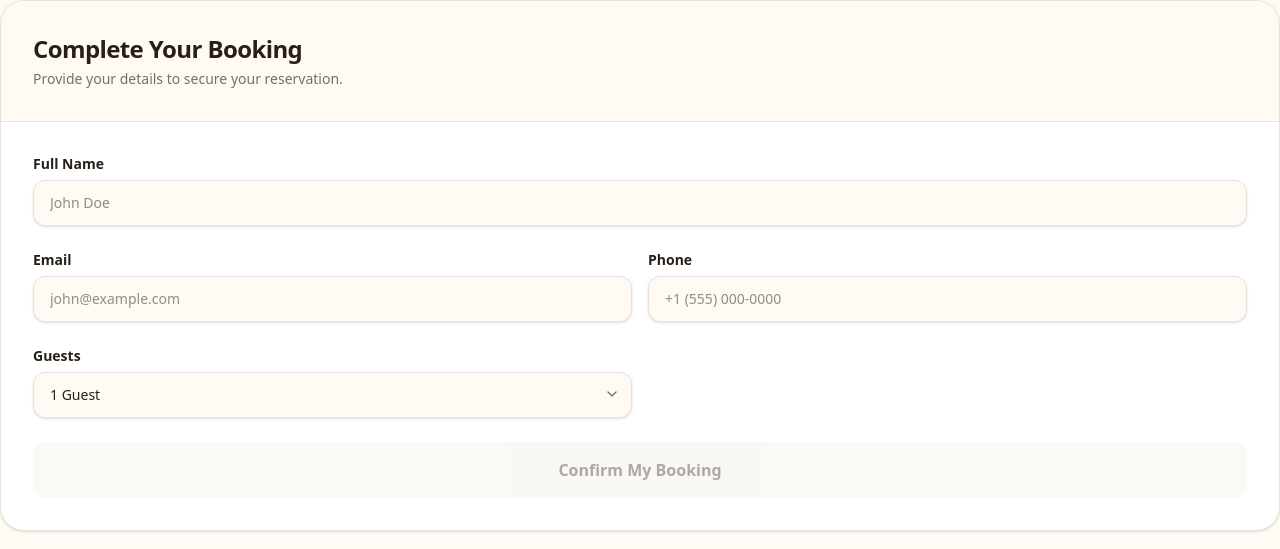
BookingForm › enables submit button when form is valid
Type "Mohamed Ahmed" into the field with placeholder "John Doe" at (640, 203), box [33,180,1247,226]
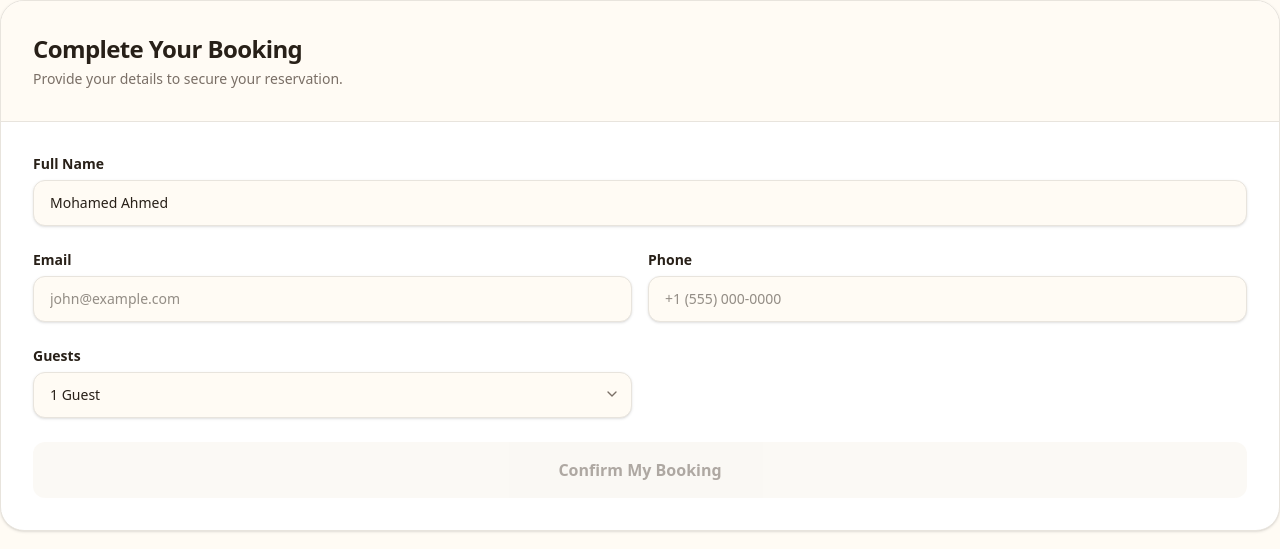
Type "test@test.com" into the field with placeholder "john@example.com" at (332, 299), box [33,276,632,322]
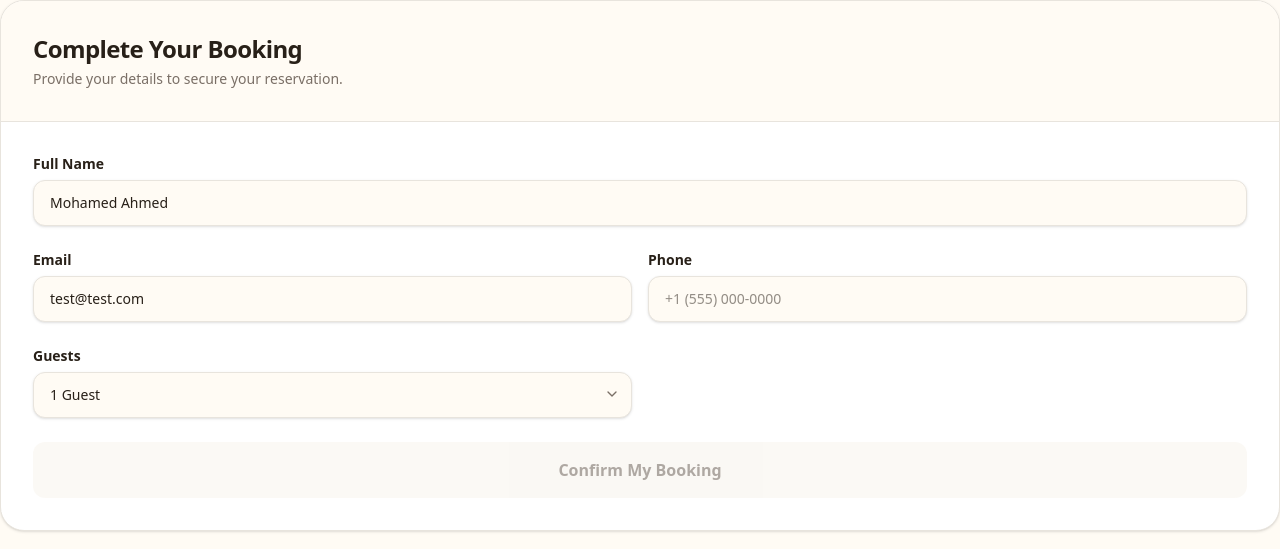
Type "+201234567890" into the field with placeholder "+1 (555) 000-0000" at (948, 299), box [648,276,1247,322]
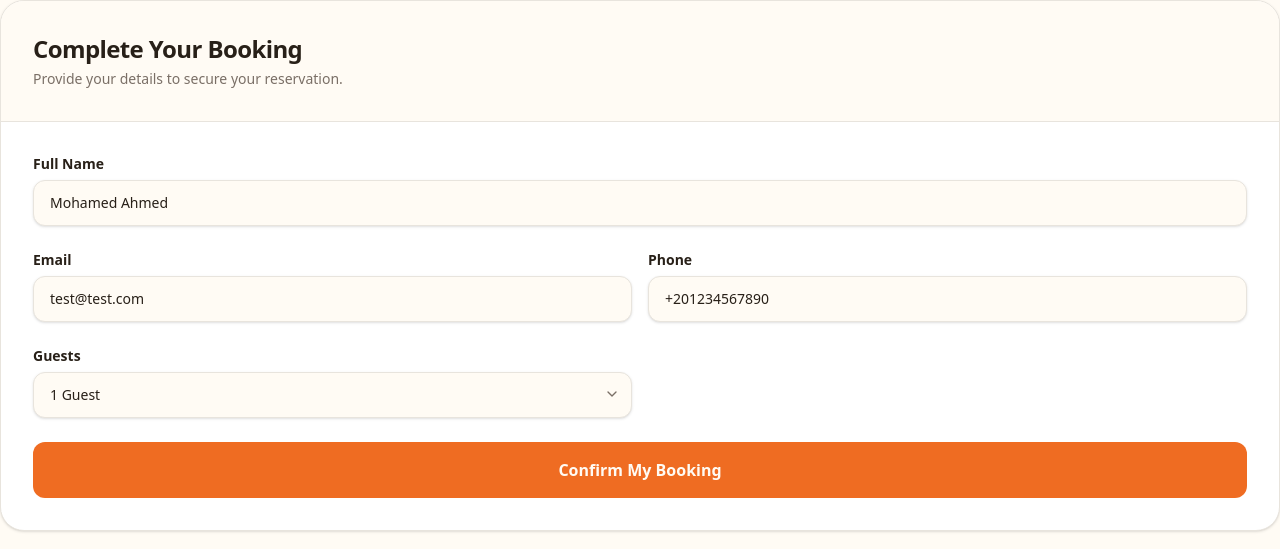
Now the button "Confirm My Booking" is enabled, box [33,442,1247,498]
